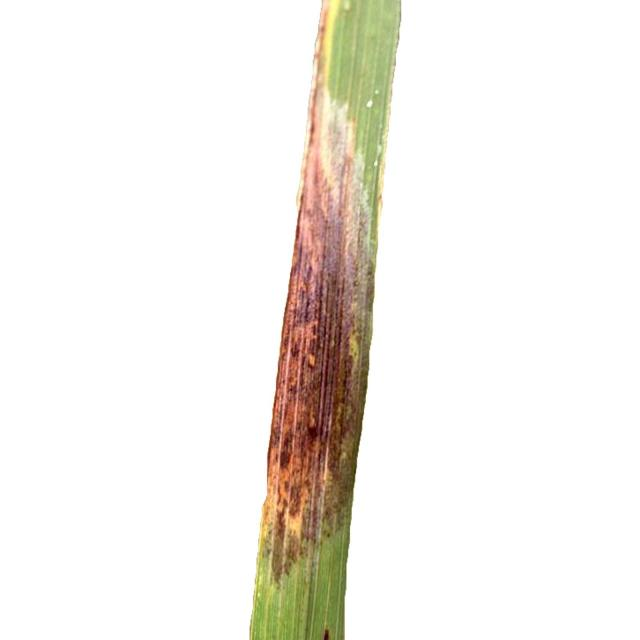Leaf scald: (206, 0, 474, 640)
